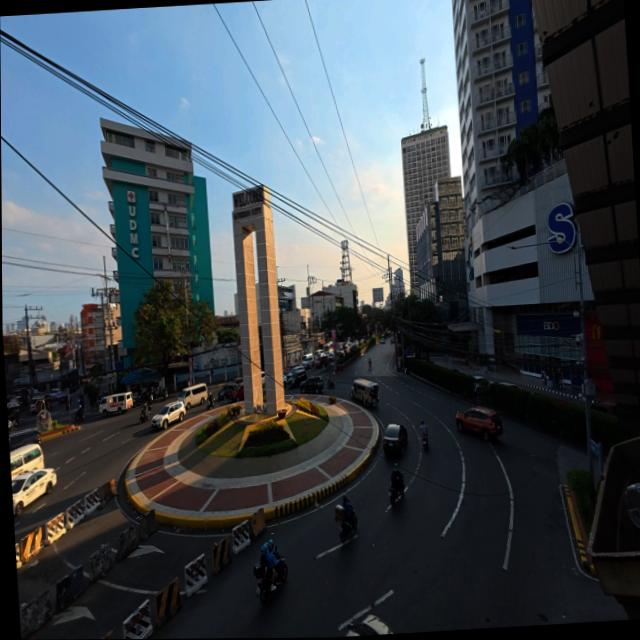Jeepneys: (351, 379, 378, 406)
car: (12, 469, 57, 514), (456, 406, 502, 442), (346, 615, 395, 635), (151, 402, 186, 429), (383, 424, 408, 455), (300, 376, 324, 394), (591, 401, 617, 415), (288, 369, 307, 388), (474, 375, 493, 392), (218, 383, 233, 400), (231, 383, 244, 402), (30, 398, 45, 413), (302, 354, 314, 369), (499, 381, 520, 389), (291, 365, 306, 374), (49, 389, 60, 398), (290, 362, 302, 370), (233, 377, 243, 385), (284, 366, 293, 374), (328, 352, 334, 362), (283, 373, 287, 386), (381, 337, 385, 344)
motorcycle: (340, 502, 357, 542), (254, 564, 271, 604), (390, 483, 403, 505), (139, 406, 151, 423), (75, 406, 84, 422), (206, 393, 214, 409), (160, 388, 168, 400), (421, 435, 427, 450), (327, 378, 335, 389), (368, 363, 372, 370)
vans: (10, 444, 43, 477), (99, 392, 133, 416), (179, 383, 207, 409), (315, 350, 324, 358)
